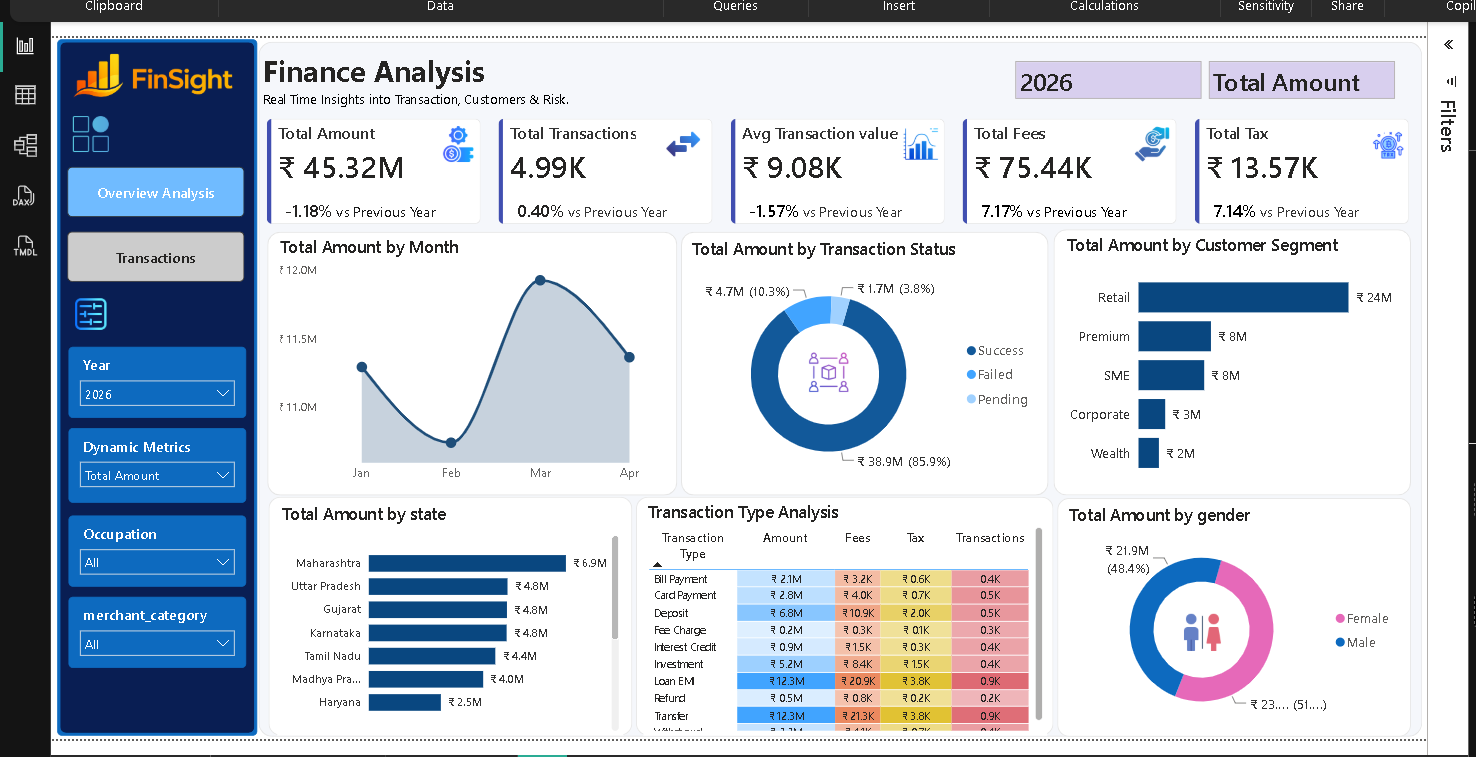

Layout of this report page (visuals, bound fields, positions):
{"tool":"powerbi","page":{"name":"Overview Analysis","canvas":[1530,780],"ordinal":0},"visuals":[{"type":"shape","box":[230.7,4.2,1294,772.8],"z":0},{"type":"shape","box":[6.9,1.4,222,774.2],"z":1000},{"type":"image","box":[6.9,1.4,218.2,82],"z":2000},{"type":"textbox","box":[230.7,9.7,394.7,73.7],"z":3000},{"type":"cardVisual","fields":{"Data":["finance_transactions.Total Amount","finance_transactions.Total Transactions","finance_transactions.Avg Transaction value","finance_transactions.Total Fees","finance_transactions.Total Tax"]},"box":[233.5,83.4,1282.9,129.3],"z":4000},{"type":"slicer","fields":{"Values":["Calender Table.Year"]},"box":[19.5,343.3,197.4,79.2],"z":5000},{"type":"image","box":[428.1,93.1,50,50],"z":6000},{"type":"image","box":[678.3,93.1,50,50],"z":7000},{"type":"image","box":[1199.5,93.1,50,50],"z":8000},{"type":"image","box":[942.4,93.1,50,50],"z":9000},{"type":"image","box":[1462.2,94.5,50,50],"z":10000},{"type":"slicer","fields":{"Values":["Dynamic Metrics.Dynamic Metrics"]},"box":[19.5,433.6,197.4,83.4],"z":11000},{"type":"shape","box":[240.5,215.4,455.9,293.3],"z":12000},{"type":"shape","box":[700.5,215.4,408.6,293.3],"z":13000},{"type":"areaChart","fields":{"Category":["Calender Table.Month"],"Y":["finance_transactions.Total Amount"]},"box":[250.2,219.6,437.8,284.9],"z":14000},{"type":"cardVisual","fields":{"Data":["finance_transactions.Selected Year","finance_transactions.Selected Dynamic Title"]},"box":[1067.4,20.8,433.6,52.8],"z":15000},{"type":"donutChart","fields":{"Category":["finance_transactions.transaction_status"],"Y":["finance_transactions.Total Amount"]},"box":[707.5,221,394.7,280.8],"z":16000},{"type":"shape","box":[1114.7,212.7,397.5,296],"z":17000},{"type":"barChart","fields":{"Category":["customers.customer_segment"],"Y":["finance_transactions.Total Amount"]},"box":[1124.4,216.8,380.8,284.9],"z":18000},{"type":"shape","box":[241.8,510.1,404.5,265.5],"z":19000},{"type":"barChart","fields":{"Category":["customers.state"],"Y":["finance_transactions.Total Amount"]},"box":[251.6,515.7,385,259.9],"z":20000},{"type":"shape","box":[650.5,510.1,464.2,265.5],"z":21000},{"type":"tableEx","title":"Transaction Type Analysis","fields":{"Values":["finance_transactions.transaction_type","finance_transactions.Total Amount","finance_transactions.Total Fees","finance_transactions.Total Tax","finance_transactions.Total Transactions"]},"box":[658.8,514.3,448.9,261.3],"z":22000},{"type":"shape","box":[1118.9,511.5,393.3,265.5],"z":23000},{"type":"donutChart","fields":{"Category":["customers.gender"],"Y":["finance_transactions.Total Amount"]},"box":[1127.2,517,376.7,257.1],"z":24000},{"type":"image","box":[833.9,343.3,61.2,57],"z":25000},{"type":"image","box":[1249.5,632.4,61.2,57],"z":26000},{"type":"slicer","fields":{"Values":["customers.occupation"]},"box":[19.5,530.9,197.4,79.2],"z":27000},{"type":"slicer","fields":{"Values":["finance_transactions.merchant_category"]},"box":[19.5,621.3,197.4,79.2],"z":28000},{"type":"pageNavigator","box":[18.1,143.2,197.4,129.3],"z":29000},{"type":"image","box":[19.5,82,50,50],"z":30000},{"type":"image","box":[19.5,282.2,50,50],"z":30001}]}

Visuals, with their boxes on the page's 1530x780 design canvas (x1, y1, x2, y2). These are canvas units, not pixel positions in the 1476x757 screenshot, which may show the page scaled, cropped or inside an application window:
shape: [x1=231, y1=4, x2=1525, y2=777]
shape: [x1=7, y1=1, x2=229, y2=776]
image: [x1=7, y1=1, x2=225, y2=83]
textbox: [x1=231, y1=10, x2=625, y2=83]
cardVisual - finance_transactions.Total Amount x finance_transactions.Total Transactions: [x1=234, y1=83, x2=1516, y2=213]
slicer - Calender Table.Year: [x1=20, y1=343, x2=217, y2=422]
image: [x1=428, y1=93, x2=478, y2=143]
image: [x1=678, y1=93, x2=728, y2=143]
image: [x1=1200, y1=93, x2=1250, y2=143]
image: [x1=942, y1=93, x2=992, y2=143]
image: [x1=1462, y1=94, x2=1512, y2=144]
slicer - Dynamic Metrics.Dynamic Metrics: [x1=20, y1=434, x2=217, y2=517]
shape: [x1=240, y1=215, x2=696, y2=509]
shape: [x1=700, y1=215, x2=1109, y2=509]
areaChart - Calender Table.Month x finance_transactions.Total Amount: [x1=250, y1=220, x2=688, y2=504]
cardVisual - finance_transactions.Selected Year x finance_transactions.Selected Dynamic Title: [x1=1067, y1=21, x2=1501, y2=74]
donutChart - finance_transactions.transaction_status x finance_transactions.Total Amount: [x1=708, y1=221, x2=1102, y2=502]
shape: [x1=1115, y1=213, x2=1512, y2=509]
barChart - customers.customer_segment x finance_transactions.Total Amount: [x1=1124, y1=217, x2=1505, y2=502]
shape: [x1=242, y1=510, x2=646, y2=776]
barChart - customers.state x finance_transactions.Total Amount: [x1=252, y1=516, x2=637, y2=776]
shape: [x1=650, y1=510, x2=1115, y2=776]
"Transaction Type Analysis" tableEx: [x1=659, y1=514, x2=1108, y2=776]
shape: [x1=1119, y1=512, x2=1512, y2=777]
donutChart - customers.gender x finance_transactions.Total Amount: [x1=1127, y1=517, x2=1504, y2=774]
image: [x1=834, y1=343, x2=895, y2=400]
image: [x1=1250, y1=632, x2=1311, y2=689]
slicer - customers.occupation: [x1=20, y1=531, x2=217, y2=610]
slicer - finance_transactions.merchant_category: [x1=20, y1=621, x2=217, y2=700]
pageNavigator: [x1=18, y1=143, x2=216, y2=272]
image: [x1=20, y1=82, x2=70, y2=132]
image: [x1=20, y1=282, x2=70, y2=332]
